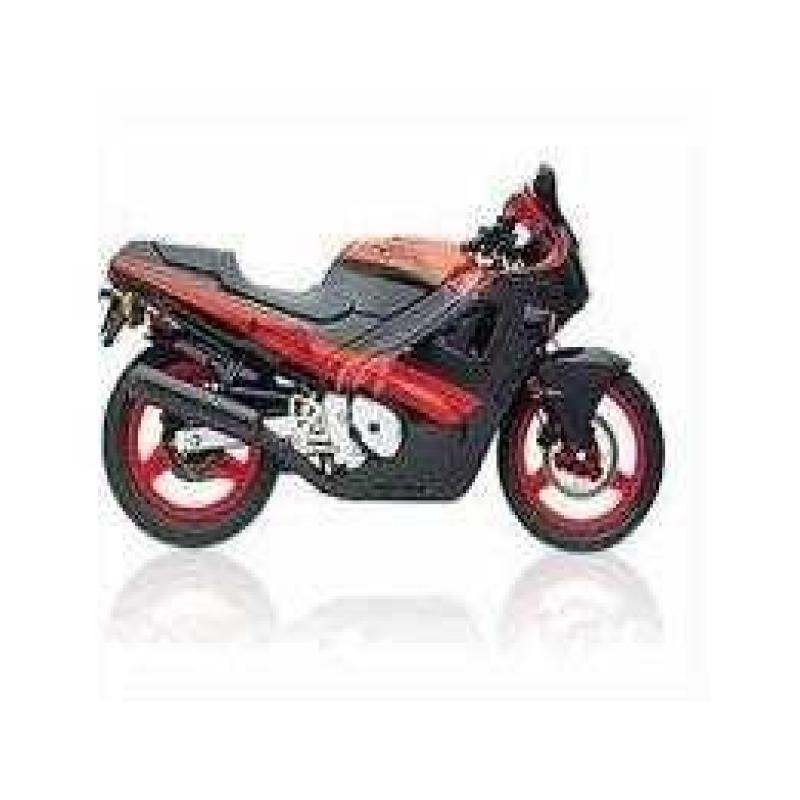bike: (79, 159, 676, 600)
